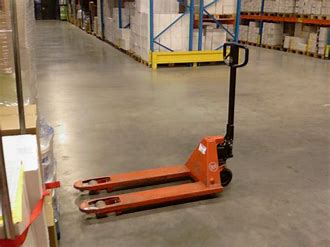Pallet Jack: (72, 42, 250, 219)
